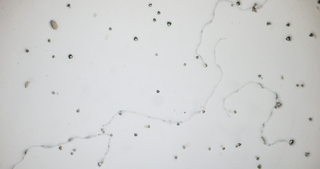germinated: (277, 133, 297, 149), (95, 151, 109, 168), (198, 58, 212, 70)
nongerminated: (264, 19, 273, 28), (192, 52, 201, 61), (23, 46, 32, 55), (284, 34, 294, 42), (164, 20, 174, 28), (303, 149, 311, 159), (150, 15, 158, 24), (154, 88, 163, 96), (307, 31, 315, 39), (284, 20, 292, 28), (275, 101, 283, 109), (206, 144, 214, 152), (180, 143, 188, 151), (131, 130, 139, 138), (181, 60, 189, 68), (66, 52, 74, 60), (49, 52, 57, 60), (49, 88, 57, 96), (132, 34, 139, 43), (147, 0, 154, 8), (299, 82, 307, 89), (256, 72, 263, 80), (254, 155, 262, 162), (172, 154, 180, 161), (174, 120, 182, 127), (74, 107, 82, 114), (56, 144, 64, 151), (46, 36, 53, 44), (155, 10, 162, 17), (220, 145, 227, 152), (237, 141, 244, 148), (153, 50, 160, 57), (107, 25, 114, 32), (65, 2, 72, 9), (146, 122, 152, 130), (306, 116, 313, 122), (294, 81, 300, 88), (235, 0, 242, 6), (201, 107, 207, 114), (117, 110, 123, 117), (72, 146, 79, 152), (234, 143, 240, 149), (69, 151, 74, 157)
